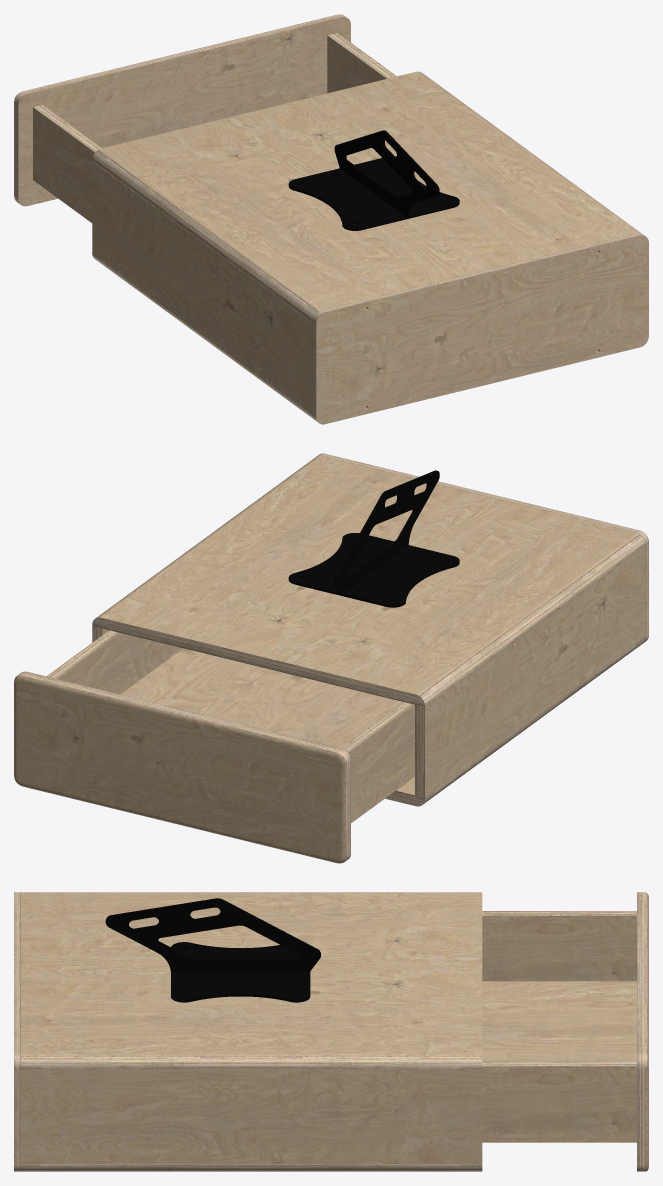
The model's file is plywoodbox-model-a5.glb.
The picture shows the model from 3 angles, top to bottom: view 1: azimuth 30°, elevation 25°; view 2: azimuth 150°, elevation 25°; view 3: azimuth 270°, elevation 25°; orthographic projection. The views are drawn at different scales.
Visible parts, largest first — view 1: Ð_Ð_ÐµÐ_ÐµÐ_Ñ_Ð_ÐµÑ_ÐºÐ_1_108, Object034, Box023, Ð_Ð_ÐµÐ_ÐµÐ_Ñ_Ð_ÐµÑ_ÐºÐ_1_110, Object033, Ð_Ð_ÐµÐ_ÐµÐ_Ñ_Ð_ÐµÑ_ÐºÐ_1_114, Ð_Ð_ÐµÐ_ÐµÐ_Ñ_Ð_ÐµÑ_ÐºÐ_1_107, Ð_Ð_ÐµÐ_ÐµÐ_Ñ_Ð_ÐµÑ_ÐºÐ_1_109, Ð_Ð_ÐµÐ_ÐµÐ_Ñ_Ð_ÐµÑ_ÐºÐ_1_111; view 2: Ð_Ð_ÐµÐ_ÐµÐ_Ñ_Ð_ÐµÑ_ÐºÐ_1_108, Box023, Ð_Ð_ÐµÐ_ÐµÐ_Ñ_Ð_ÐµÑ_ÐºÐ_1_110, Ð_Ð_ÐµÐ_ÐµÐ_Ñ_Ð_ÐµÑ_ÐºÐ_1_106, Object033, Ð_Ð_ÐµÐ_ÐµÐ_Ñ_Ð_ÐµÑ_ÐºÐ_1_114, Ð_Ð_ÐµÐ_ÐµÐ_Ñ_Ð_ÐµÑ_ÐºÐ_1_109, Ð_Ð_ÐµÐ_ÐµÐ_Ñ_Ð_ÐµÑ_ÐºÐ_1_107, Ð_Ð_ÐµÐ_ÐµÐ_Ñ_Ð_ÐµÑ_ÐºÐ_1_111, Object034; view 3: Ð_Ð_ÐµÐ_ÐµÐ_Ñ_Ð_ÐµÑ_ÐºÐ_1_108, Ð_Ð_ÐµÐ_ÐµÐ_Ñ_Ð_ÐµÑ_ÐºÐ_1_112, Ð_Ð_ÐµÐ_ÐµÐ_Ñ_Ð_ÐµÑ_ÐºÐ_1_109, Ð_Ð_ÐµÐ_ÐµÐ_Ñ_Ð_ÐµÑ_ÐºÐ_1_106, Ð_Ð_ÐµÐ_ÐµÐ_Ñ_Ð_ÐµÑ_ÐºÐ_1_114, Ð_Ð_ÐµÐ_ÐµÐ_Ñ_Ð_ÐµÑ_ÐºÐ_1_107, Object033, Ð_Ð_ÐµÐ_ÐµÐ_Ñ_Ð_ÐµÑ_ÐºÐ_1_111, Box023, Object034.
Boxes of the visible parts, x1,y1,x2,y2 form: Ð_Ð_ÐµÐ_ÐµÐ_Ñ_Ð_ÐµÑ_ÐºÐ_1_108: [92, 71, 641, 322]; Object034: [313, 233, 648, 424]; Box023: [14, 14, 350, 206]; Ð_Ð_ÐµÐ_ÐµÐ_Ñ_Ð_ÐµÑ_ÐºÐ_1_110: [92, 161, 312, 412]; Object033: [288, 156, 459, 230]; Ð_Ð_ÐµÐ_ÐµÐ_Ñ_Ð_ÐµÑ_ÐºÐ_1_114: [33, 105, 102, 222]; Ð_Ð_ÐµÐ_ÐµÐ_Ñ_Ð_ÐµÑ_ÐºÐ_1_107: [334, 130, 439, 216]; Ð_Ð_ÐµÐ_ÐµÐ_Ñ_Ð_ÐµÑ_ÐºÐ_1_109: [327, 33, 396, 93]; Ð_Ð_ÐµÐ_ÐµÐ_Ñ_Ð_ÐµÑ_ÐºÐ_1_111: [92, 252, 314, 419]; Ð_Ð_ÐµÐ_ÐµÐ_Ñ_Ð_ÐµÑ_ÐºÐ_1_108: [92, 456, 645, 706]; Box023: [14, 671, 350, 863]; Ð_Ð_ÐµÐ_ÐµÐ_Ñ_Ð_ÐµÑ_ÐºÐ_1_110: [415, 546, 645, 797]; Ð_Ð_ÐµÐ_ÐµÐ_Ñ_Ð_ÐµÑ_ÐºÐ_1_106: [120, 648, 403, 747]; Object033: [288, 533, 459, 607]; Ð_Ð_ÐµÐ_ÐµÐ_Ñ_Ð_ÐµÑ_ÐºÐ_1_114: [341, 702, 414, 822]; Ð_Ð_ÐµÐ_ÐµÐ_Ñ_Ð_ÐµÑ_ÐºÐ_1_109: [46, 630, 182, 694]; Ð_Ð_ÐµÐ_ÐµÐ_Ñ_Ð_ÐµÑ_ÐºÐ_1_107: [334, 470, 439, 593]; Ð_Ð_ÐµÐ_ÐµÐ_Ñ_Ð_ÐµÑ_ÐºÐ_1_111: [385, 636, 645, 806]; Object034: [317, 453, 648, 642]; Ð_Ð_ÐµÐ_ÐµÐ_Ñ_Ð_ÐµÑ_ÐºÐ_1_108: [20, 892, 482, 1069]; Ð_Ð_ÐµÐ_ÐµÐ_Ñ_Ð_ÐµÑ_ÐºÐ_1_112: [20, 1069, 482, 1163]; Ð_Ð_ÐµÐ_ÐµÐ_Ñ_Ð_ÐµÑ_ÐºÐ_1_109: [482, 1061, 636, 1142]; Ð_Ð_ÐµÐ_ÐµÐ_Ñ_Ð_ÐµÑ_ÐºÐ_1_106: [482, 981, 636, 1061]; Ð_Ð_ÐµÐ_ÐµÐ_Ñ_Ð_ÐµÑ_ÐºÐ_1_114: [482, 911, 636, 981]; Ð_Ð_ÐµÐ_ÐµÐ_Ñ_Ð_ÐµÑ_ÐºÐ_1_107: [105, 898, 320, 971]; Object033: [171, 942, 310, 1002]; Ð_Ð_ÐµÐ_ÐµÐ_Ñ_Ð_ÐµÑ_ÐºÐ_1_111: [20, 1164, 482, 1171]; Box023: [637, 892, 648, 1171]; Object034: [14, 892, 20, 1171].
Size of the model in its own units: 4.06 by 2.14 by 6.42.
3 materials, 1 textured.
